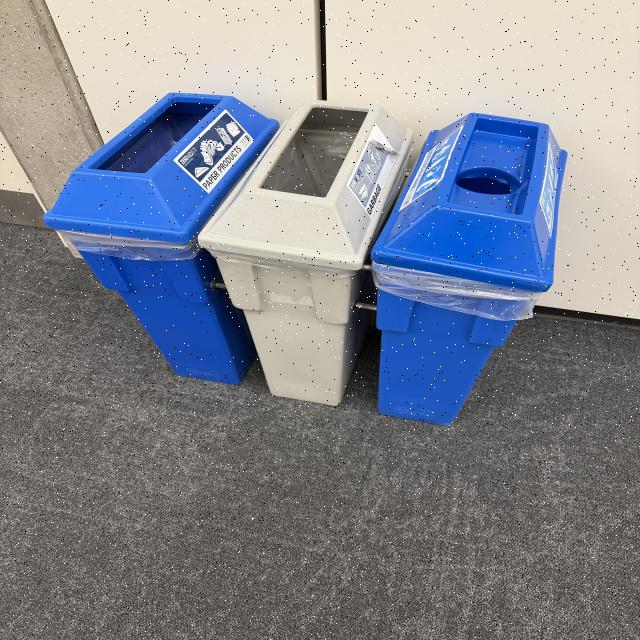Dustbin: (44, 91, 572, 426)
